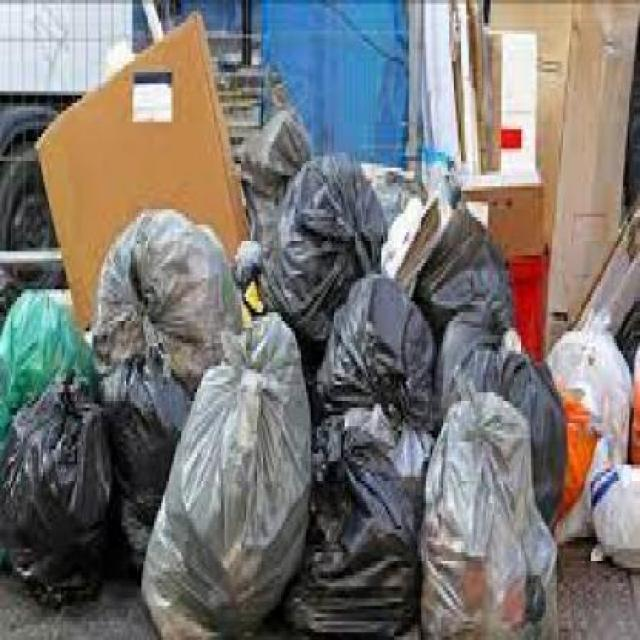garbage: (0, 31, 638, 636)
